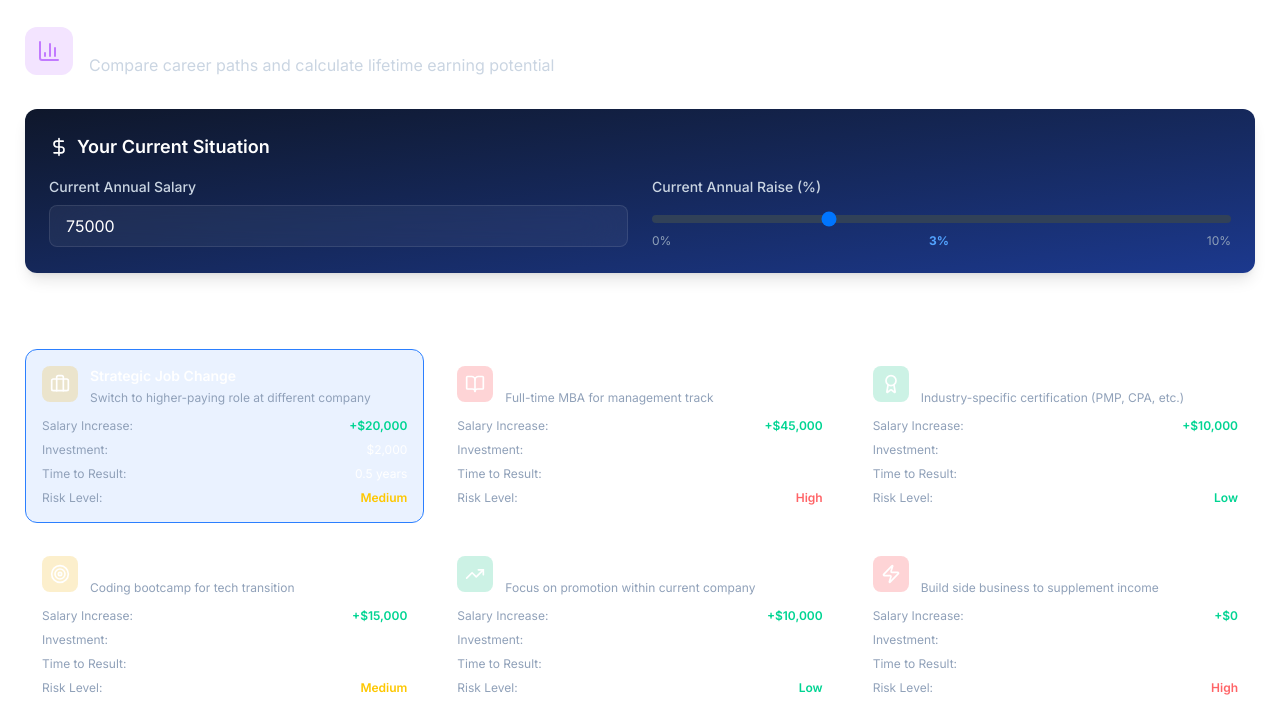
Test: CareerGrowthROICalculator › updates raise percentage when slider is moved
Set the slider named "Current Annual Raise Percentage" to "7" at [1054, 219], box [652,215,1231,223]
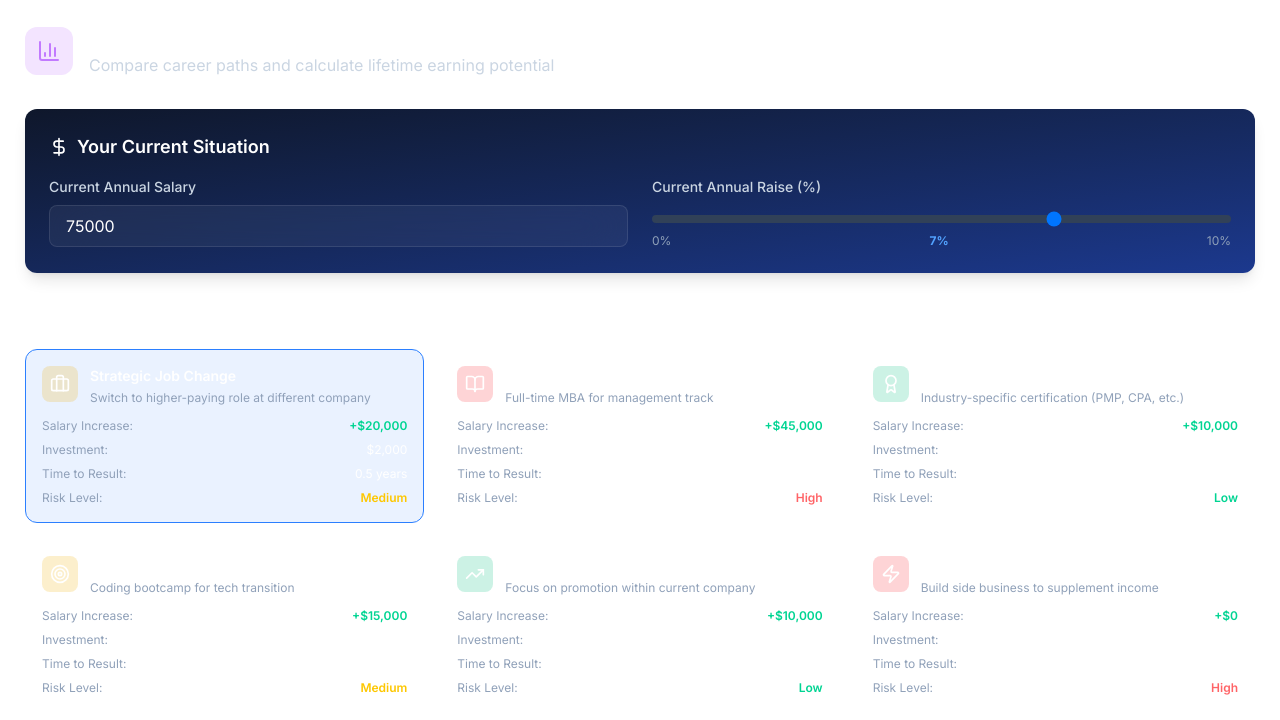
Now the text "7%" is shown, box [930,233,949,249]
